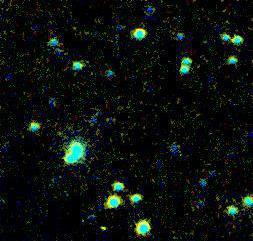star: (89, 214, 119, 241)
